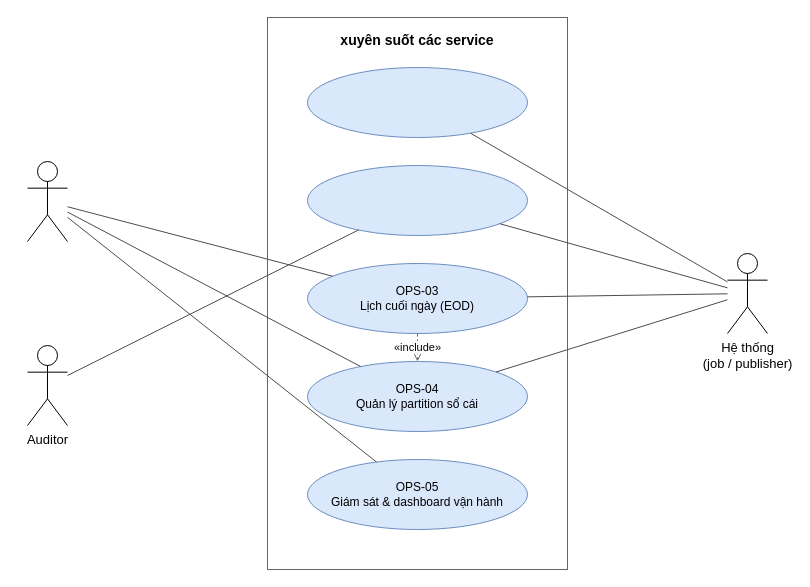
The diagram is 810 pixels wide and 587 high, and some of its shapes have lost their labels. The centre of each missing label's shape, as x and y in pixels:
Ops / DBA: (47,201)
OPS-01 Phát sự kiện tin cậy (outbox): (417,102)
OPS-02 Nhật ký kiểm toán (audit log): (417,200)
